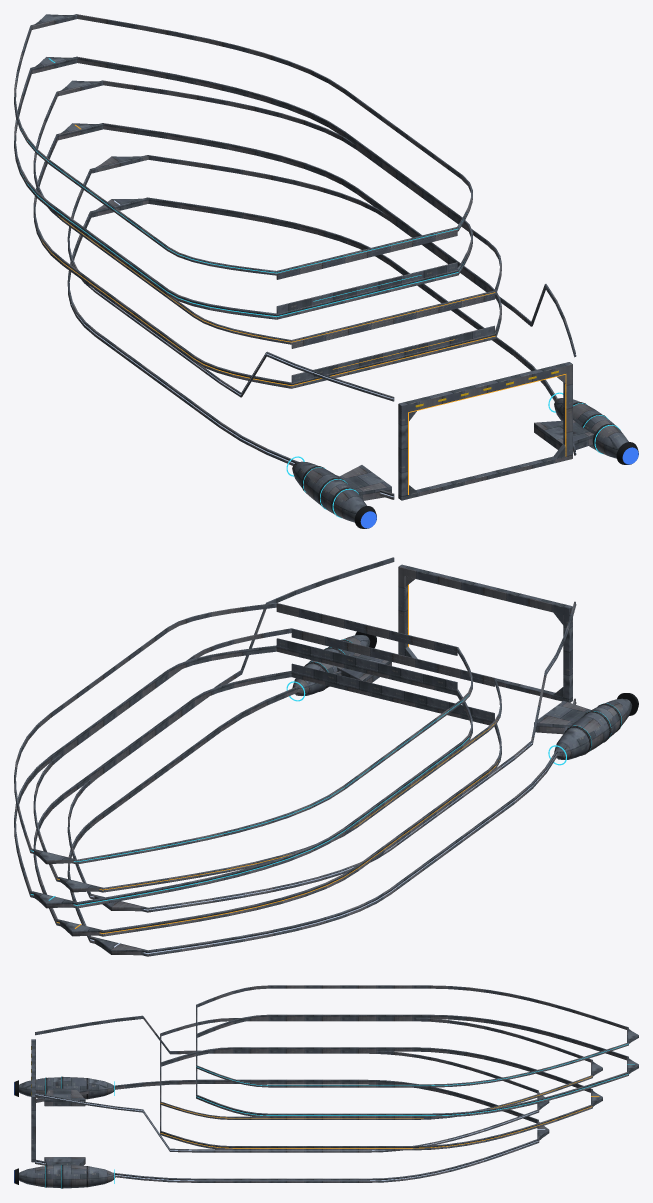
File: arch_hull_fascia.glb
The picture shows the model from 3 angles, top to bottom: view 1: azimuth 30°, elevation 25°; view 2: azimuth 150°, elevation 25°; view 3: azimuth 270°, elevation 25°; orthographic projection. The views are drawn at different scales.
Visible parts, largest first — view 1: fascia_deck1, fascia_deck2, fascia_deck3, hangar_frame, nacelle_port, nacelle_starboard, transom_deck2, transom_deck1, stem_deck3, stem_deck2, stem_deck1; view 2: fascia_deck1, fascia_deck2, fascia_deck3, hangar_frame, nacelle_port, transom_deck2, transom_deck1, nacelle_starboard, stem_deck3, stem_deck1, stem_deck2; view 3: fascia_deck1, fascia_deck3, fascia_deck2, nacelle_starboard, nacelle_port, hangar_frame.
Part boxes in pixels (<box>): fascia_deck1: <box>14,14,472,319</box>; fascia_deck2: <box>33,80,501,388</box>; fascia_deck3: <box>67,155,576,499</box>; hangar_frame: <box>398,362,572,500</box>; nacelle_port: <box>286,456,391,528</box>; nacelle_starboard: <box>534,392,638,464</box>; transom_deck2: <box>291,295,494,382</box>; transom_deck1: <box>276,231,457,313</box>; stem_deck3: <box>91,156,148,217</box>; stem_deck2: <box>58,80,103,140</box>; stem_deck1: <box>32,14,77,73</box>; fascia_deck1: <box>14,603,472,908</box>; fascia_deck2: <box>33,628,501,936</box>; fascia_deck3: <box>67,557,576,956</box>; hangar_frame: <box>398,564,572,702</box>; nacelle_port: <box>534,693,638,765</box>; transom_deck2: <box>291,633,494,720</box>; transom_deck1: <box>276,608,457,689</box>; nacelle_starboard: <box>286,631,391,701</box>; stem_deck3: <box>92,894,147,955</box>; stem_deck1: <box>32,848,76,908</box>; stem_deck2: <box>58,877,102,936</box>; fascia_deck1: <box>196,985,628,1117</box>; fascia_deck3: <box>35,1015,539,1182</box>; fascia_deck2: <box>160,1018,592,1150</box>; nacelle_starboard: <box>14,1157,115,1188</box>; nacelle_port: <box>14,1076,115,1106</box>; hangar_frame: <box>31,1039,35,1162</box>.
Size of the model in its own units: 26.24 by 13.33 by 69.62.
Materials: 8 (2 with a texture image).
